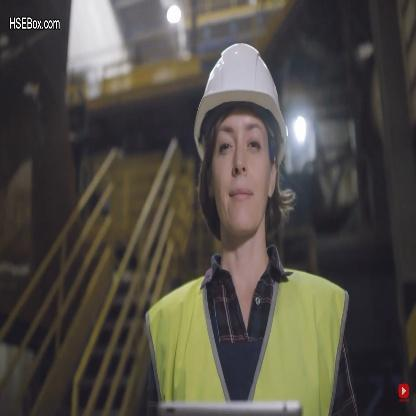helmet: (177, 31, 288, 252)
